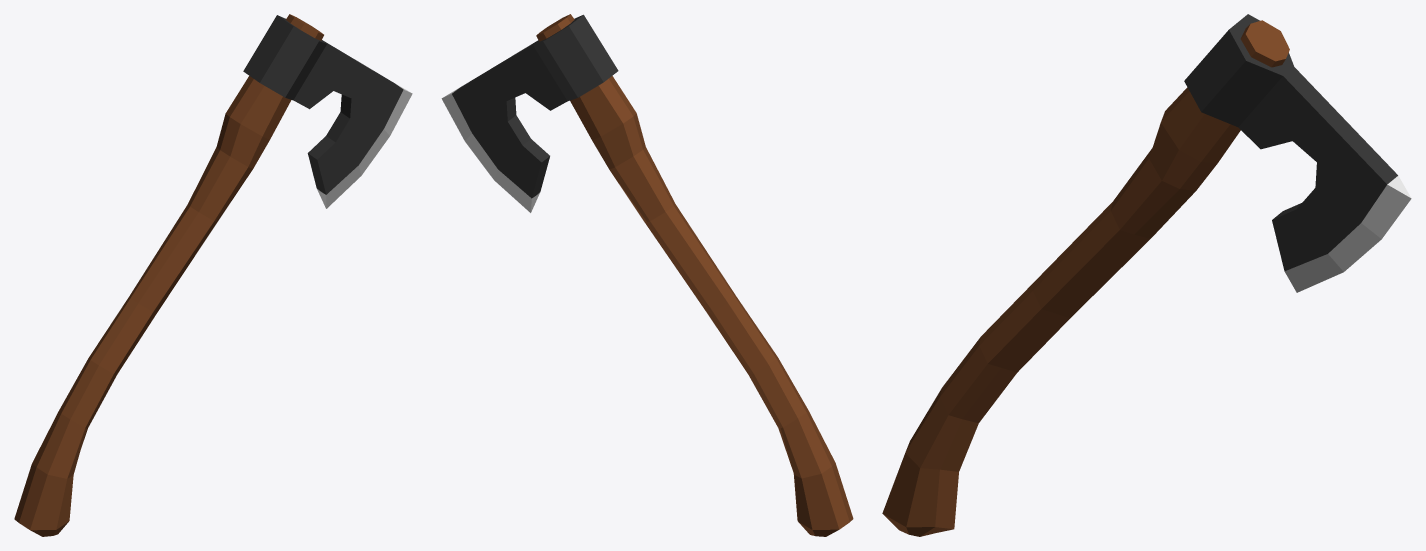
File: AxeR.fbx
The picture shows the model from 3 angles, left to right: view 1: azimuth 30°, elevation 25°; view 2: azimuth 150°, elevation 25°; view 3: azimuth 330°, elevation 25°; orthographic projection. The views are drawn at different scales.
Visible parts, largest first — view 1: Axe.002; view 2: Axe.002; view 3: Axe.002.
Boxes of the visible parts, left/top/right/bottom form: Axe.002: left=14, top=14, right=412, bottom=536; Axe.002: left=441, top=14, right=853, bottom=536; Axe.002: left=882, top=14, right=1411, bottom=536.
Bounding box in the file's own units: 275 × 296 × 34.67.
